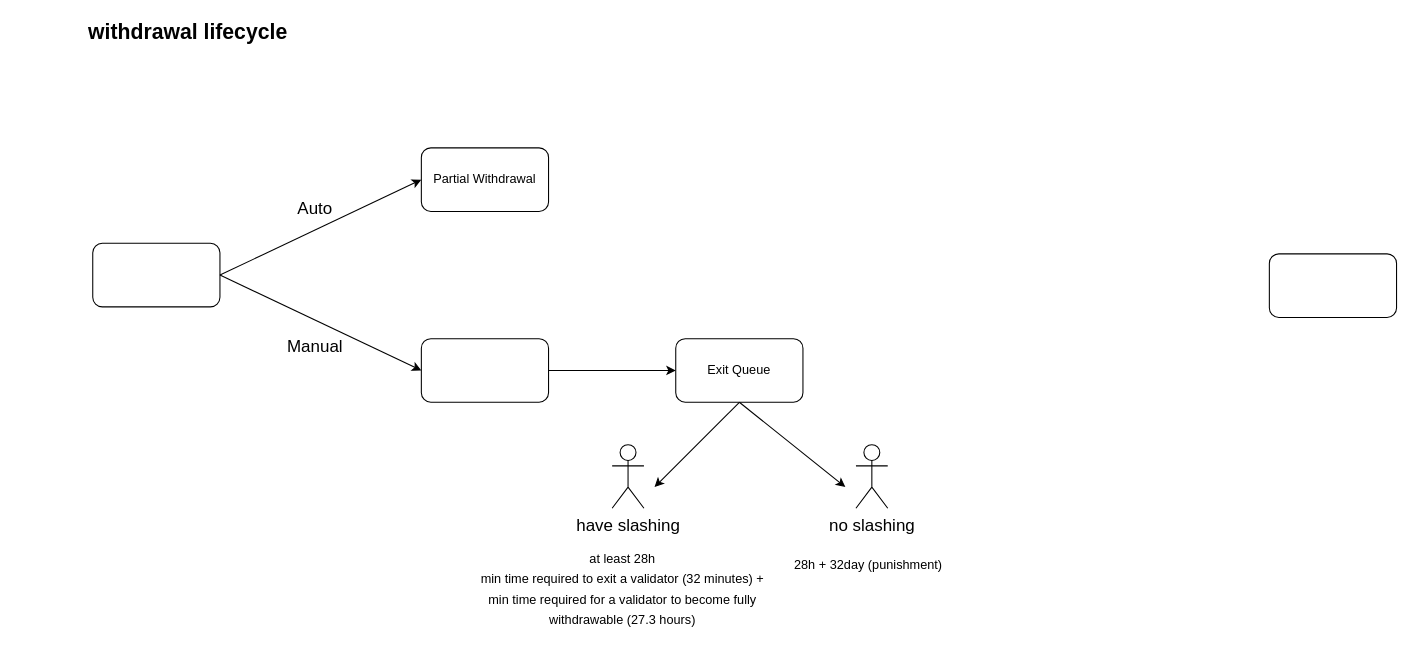
Some shapes in this 1415 by 653 pixel diagram are drawn without their labels. Each missing label, with the box of its shape:
Full Withdrawal: (420, 338, 549, 402)
Validators: (92, 242, 220, 307)
